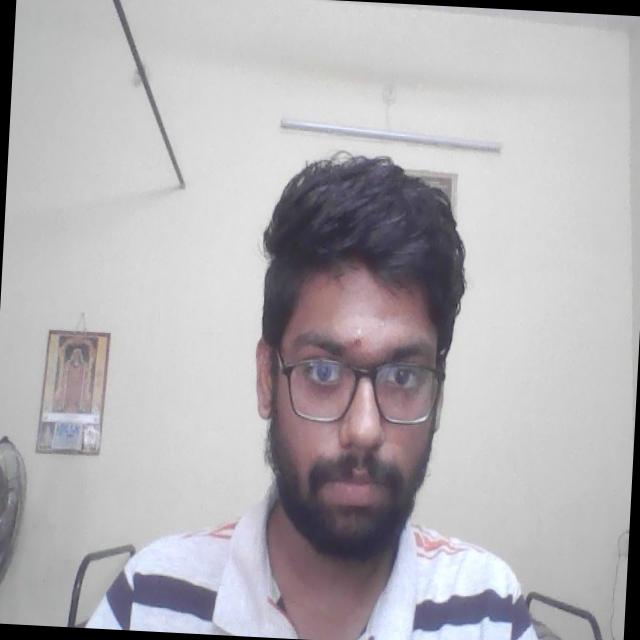Focused: (248, 272, 448, 534)
